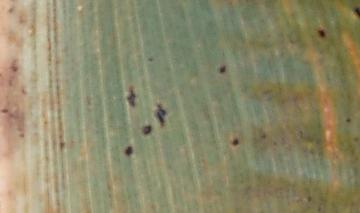tarspot: (154, 103, 167, 127), (125, 86, 138, 107), (123, 145, 133, 156), (141, 125, 152, 135), (230, 137, 240, 147), (317, 28, 326, 38), (18, 85, 27, 95), (58, 139, 66, 149), (219, 63, 226, 74), (353, 6, 360, 17), (343, 115, 352, 123), (1, 105, 9, 114), (9, 64, 18, 72), (6, 5, 15, 13), (305, 193, 312, 203), (259, 132, 267, 140), (18, 131, 26, 138), (353, 135, 360, 143), (146, 55, 153, 62)
